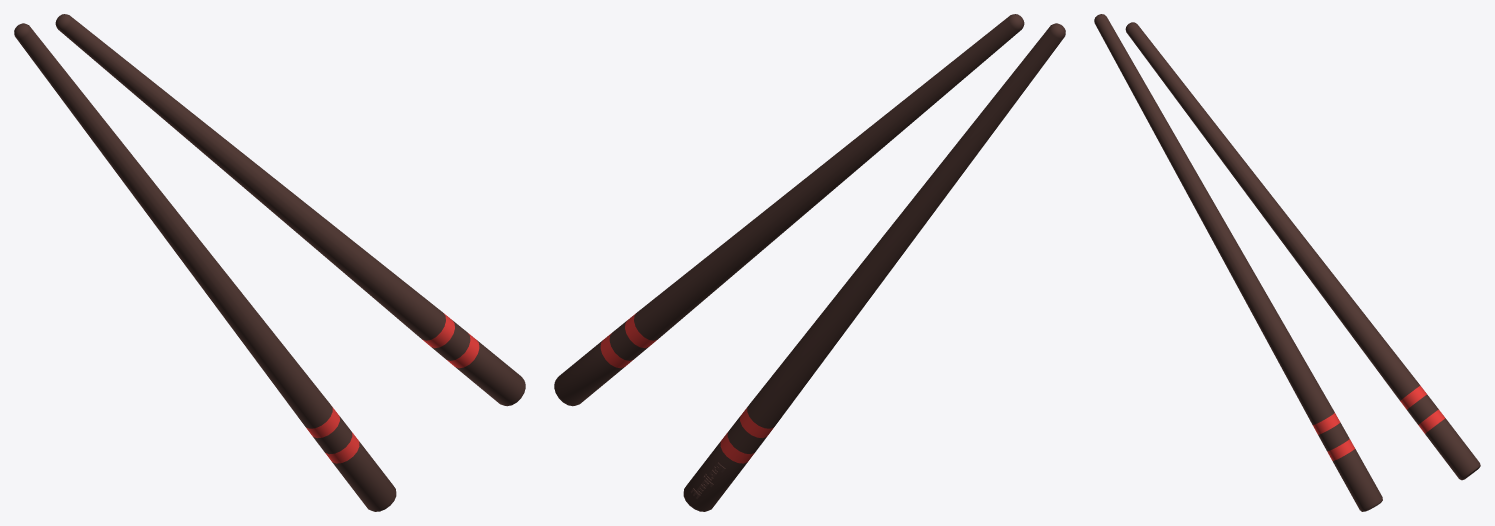
The model's file is chopsticks.fbx.
3 renders of one model, left to right at view 1: azimuth 30°, elevation 25°; view 2: azimuth 150°, elevation 25°; view 3: azimuth 330°, elevation 25°, orthographic. The views are drawn at different scales.
Visible parts, largest first — view 1: Circle.2317; view 2: Circle.2317; view 3: Circle.2317.
Boxes of the visible parts, x1,y1,x2,y2 form: Circle.2317: (14, 14, 525, 511); Circle.2317: (554, 14, 1065, 511); Circle.2317: (1094, 14, 1480, 511).
Size of the model in its own units: 210 by 226 by 12.79.
1 material, 1 textured.
